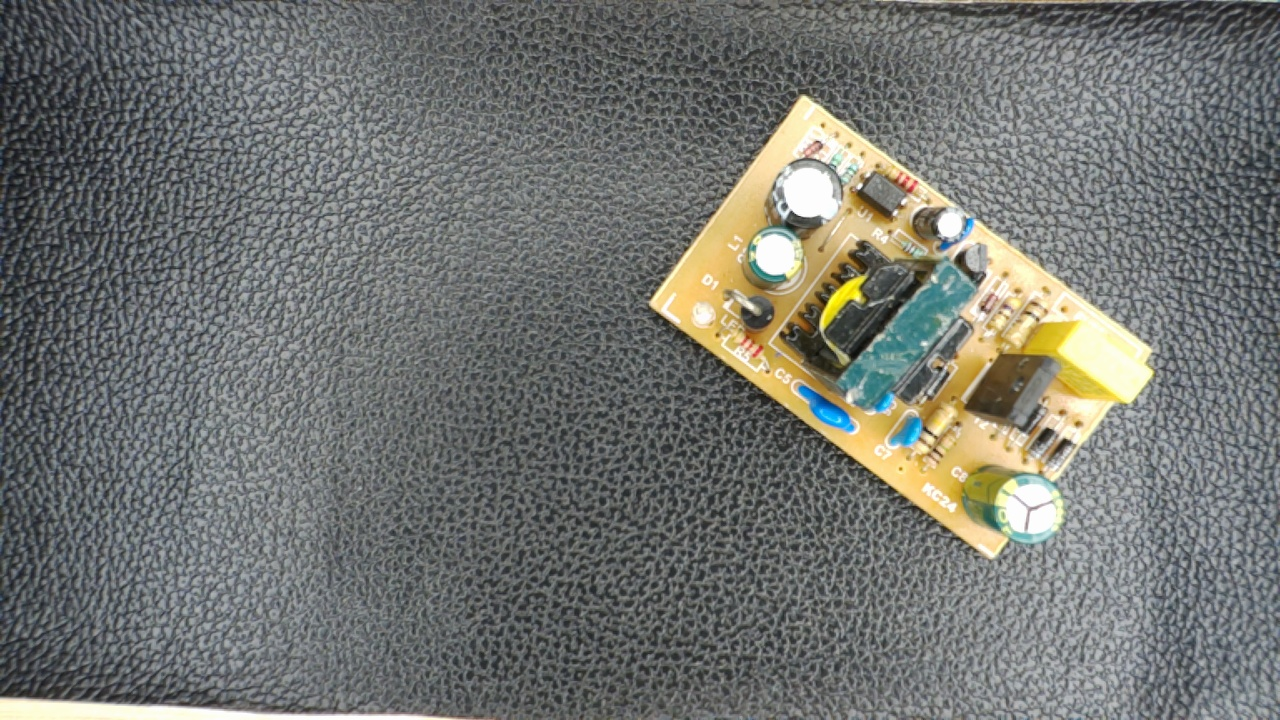hv_capacitor: (959, 462, 1067, 548)
mov: (792, 380, 863, 435)
optocoupler: (849, 167, 911, 225)
